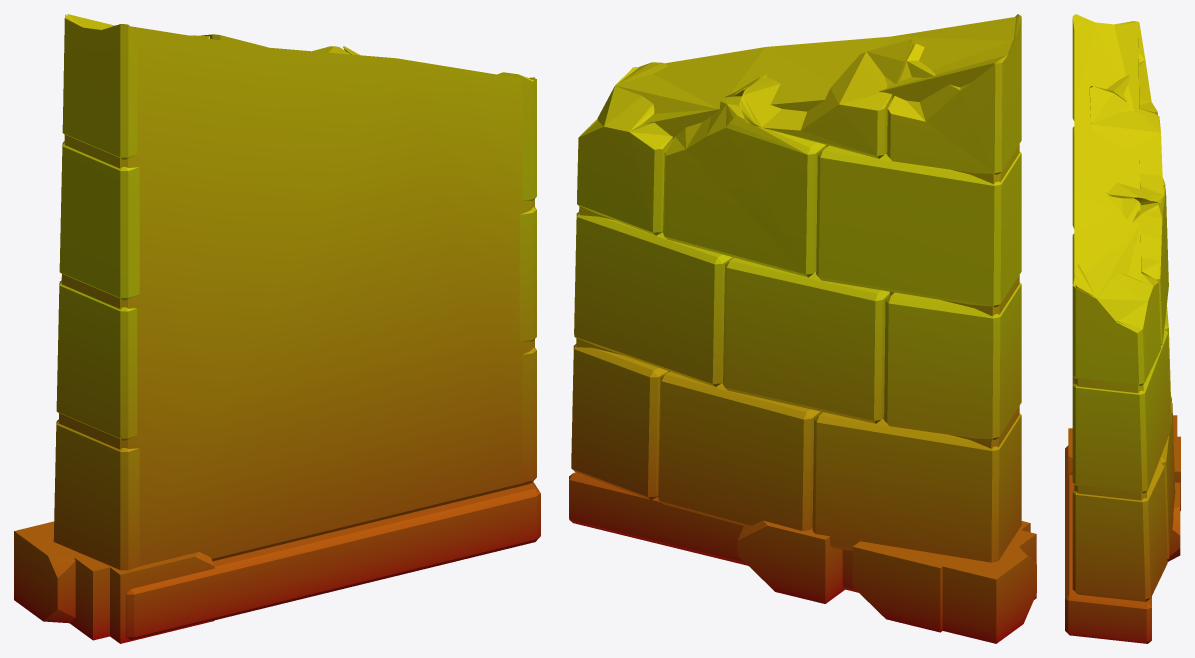
Rendered from wall_arc_broken.glb.
3 views of the same model, side by side, from view 1: azimuth 30°, elevation 25°; view 2: azimuth 150°, elevation 25°; view 3: azimuth 270°, elevation 25° (orthographic). The views are drawn at different scales.
Visible parts, largest first — view 1: wall_arc_broken; view 2: wall_arc_broken; view 3: wall_arc_broken.
Part boxes in pixels (left/top/right/bottom): wall_arc_broken: left=14, top=14, right=540, bottom=643; wall_arc_broken: left=569, top=14, right=1036, bottom=643; wall_arc_broken: left=1065, top=14, right=1180, bottom=643.
Size of what is drawn, in the model's own units: 2.81 by 3.45 by 0.7731.
